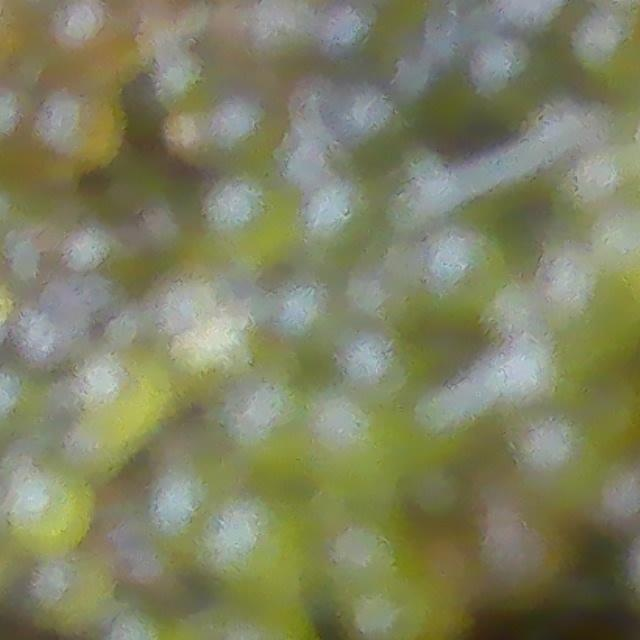SeaGrape: (334, 555, 466, 640), (206, 513, 312, 610), (2, 464, 101, 565), (312, 398, 402, 497), (233, 384, 325, 468), (34, 82, 121, 170), (78, 353, 169, 437), (43, 0, 142, 76), (145, 471, 234, 554), (35, 559, 114, 634), (302, 180, 377, 254), (272, 280, 336, 347), (204, 177, 268, 237), (573, 146, 631, 205), (0, 93, 44, 155)
